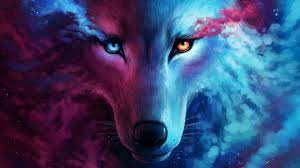Lobo: (73, 2, 220, 165)
